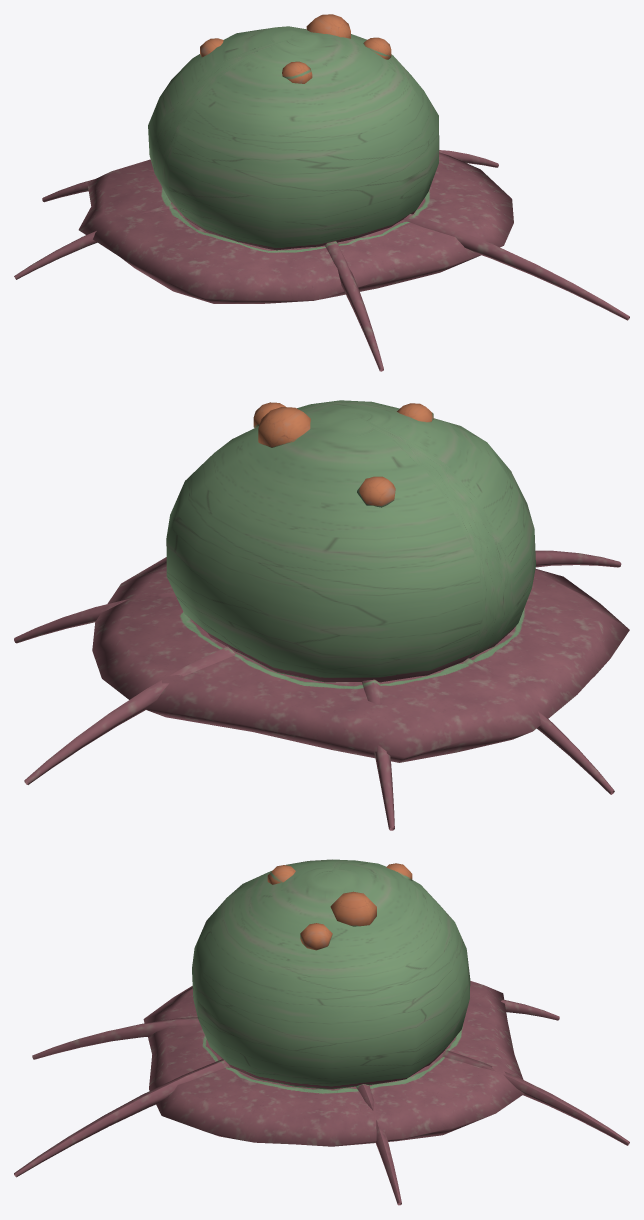
File: SM_Flora_BlobMine.fbx
The picture shows the model from 3 angles, top to bottom: view 1: azimuth 30°, elevation 25°; view 2: azimuth 150°, elevation 25°; view 3: azimuth 270°, elevation 25°; orthographic projection. The views are drawn at different scales.
Visible parts, largest first — view 1: SM_Flora_BlobMine; view 2: SM_Flora_BlobMine; view 3: SM_Flora_BlobMine.
Boxes of the visible parts, left/top/right/bottom form: SM_Flora_BlobMine: left=14, top=14, right=629, bottom=371; SM_Flora_BlobMine: left=14, top=400, right=629, bottom=830; SM_Flora_BlobMine: left=14, top=859, right=629, bottom=1205.
Size of the model in its own units: 91.46 by 101 by 39.09.
